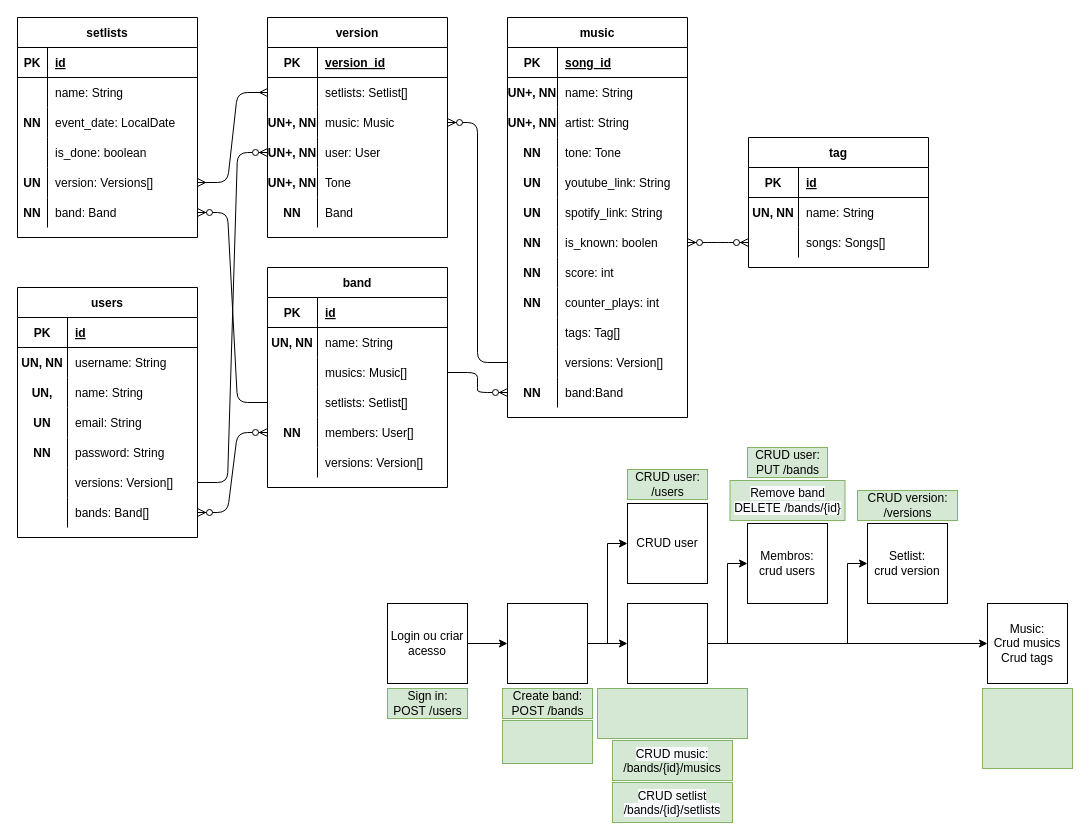
Some shapes in this 1090 by 840 pixel diagram are drawn without their labels. Here are the shapes that lost their labels. From the top down, the centre of each, then its label:
(547,643): Tela de bandas (criar ou selecionar)
(667,643): Banda selecionada (crud membro, crud musicas, crud setlists)
(672,713): CRUD member | Last member delete band: /bands/{id}/members
(1027,728): CRUD Musics: /musics CRUD Tag /tags
(547,742): Select band: GET /bands/{id}
